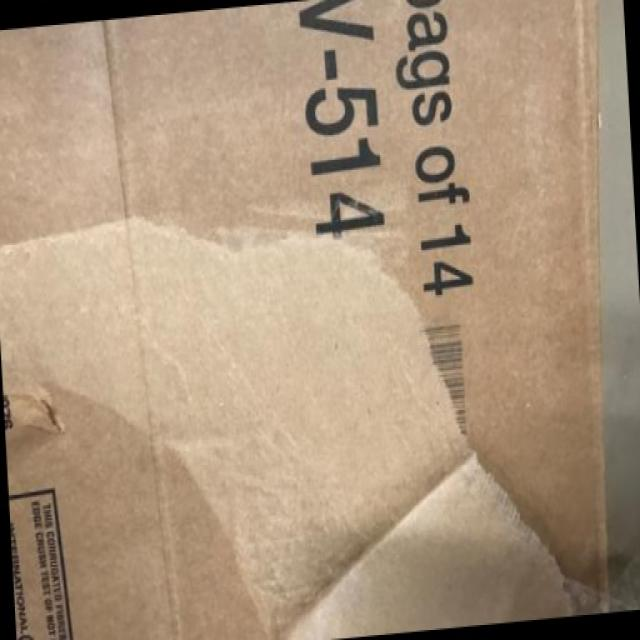carton: (158, 8, 551, 640)
